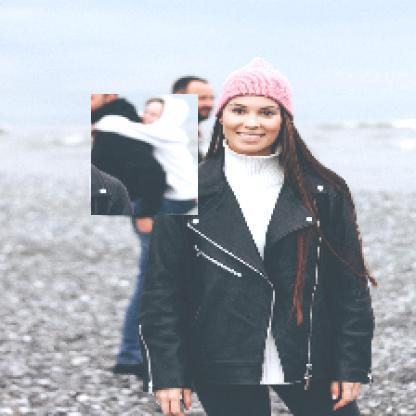child: (92, 95, 200, 217)
